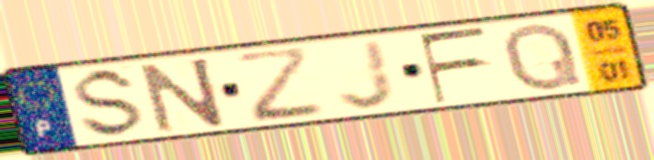F: (415, 23, 491, 107)
J: (334, 37, 400, 112)
N: (135, 54, 230, 136)
Q: (500, 19, 587, 94)
S: (72, 65, 149, 141)
Z: (229, 43, 330, 126)
